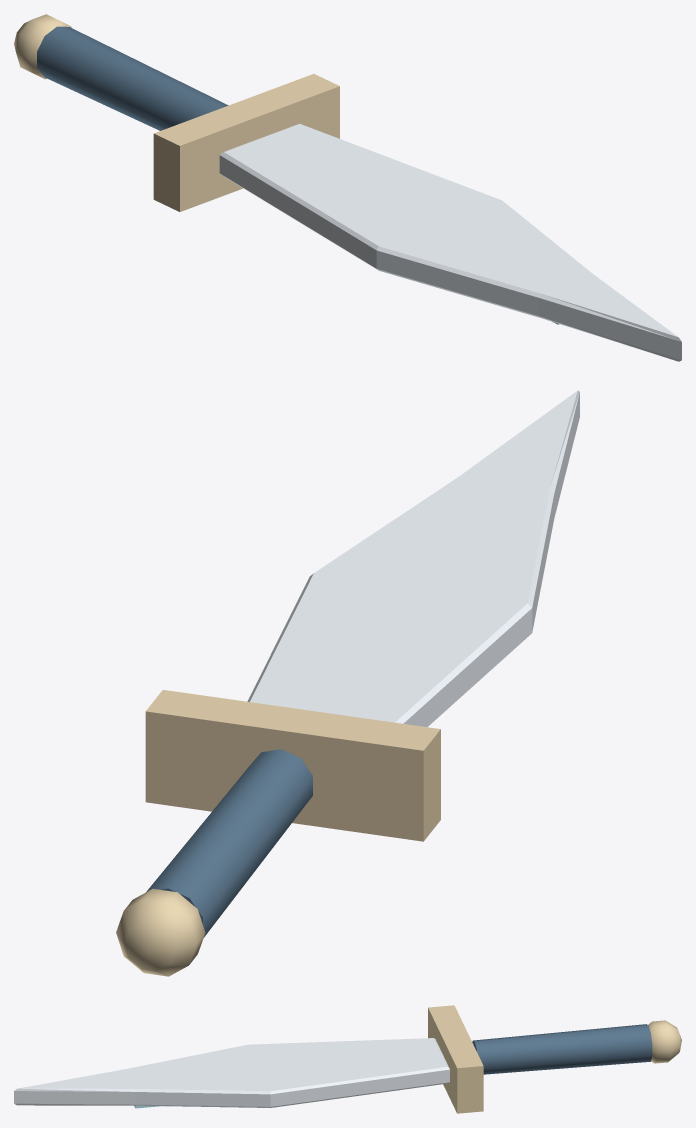
The model's file is zenith_left.glb.
3 renders of one model, top to bottom at view 1: azimuth 30°, elevation 25°; view 2: azimuth 150°, elevation 25°; view 3: azimuth 270°, elevation 25°, orthographic. The views are drawn at different scales.
Visible parts, largest first — view 1: zenith_left; view 2: zenith_left; view 3: zenith_left.
Part boxes in pixels (bbox=[...]): zenith_left: bbox=[14, 14, 681, 361]; zenith_left: bbox=[116, 390, 579, 976]; zenith_left: bbox=[14, 1005, 681, 1113].
Bounding box in the file's own units: 0.2228 × 0.065 × 0.8656.
